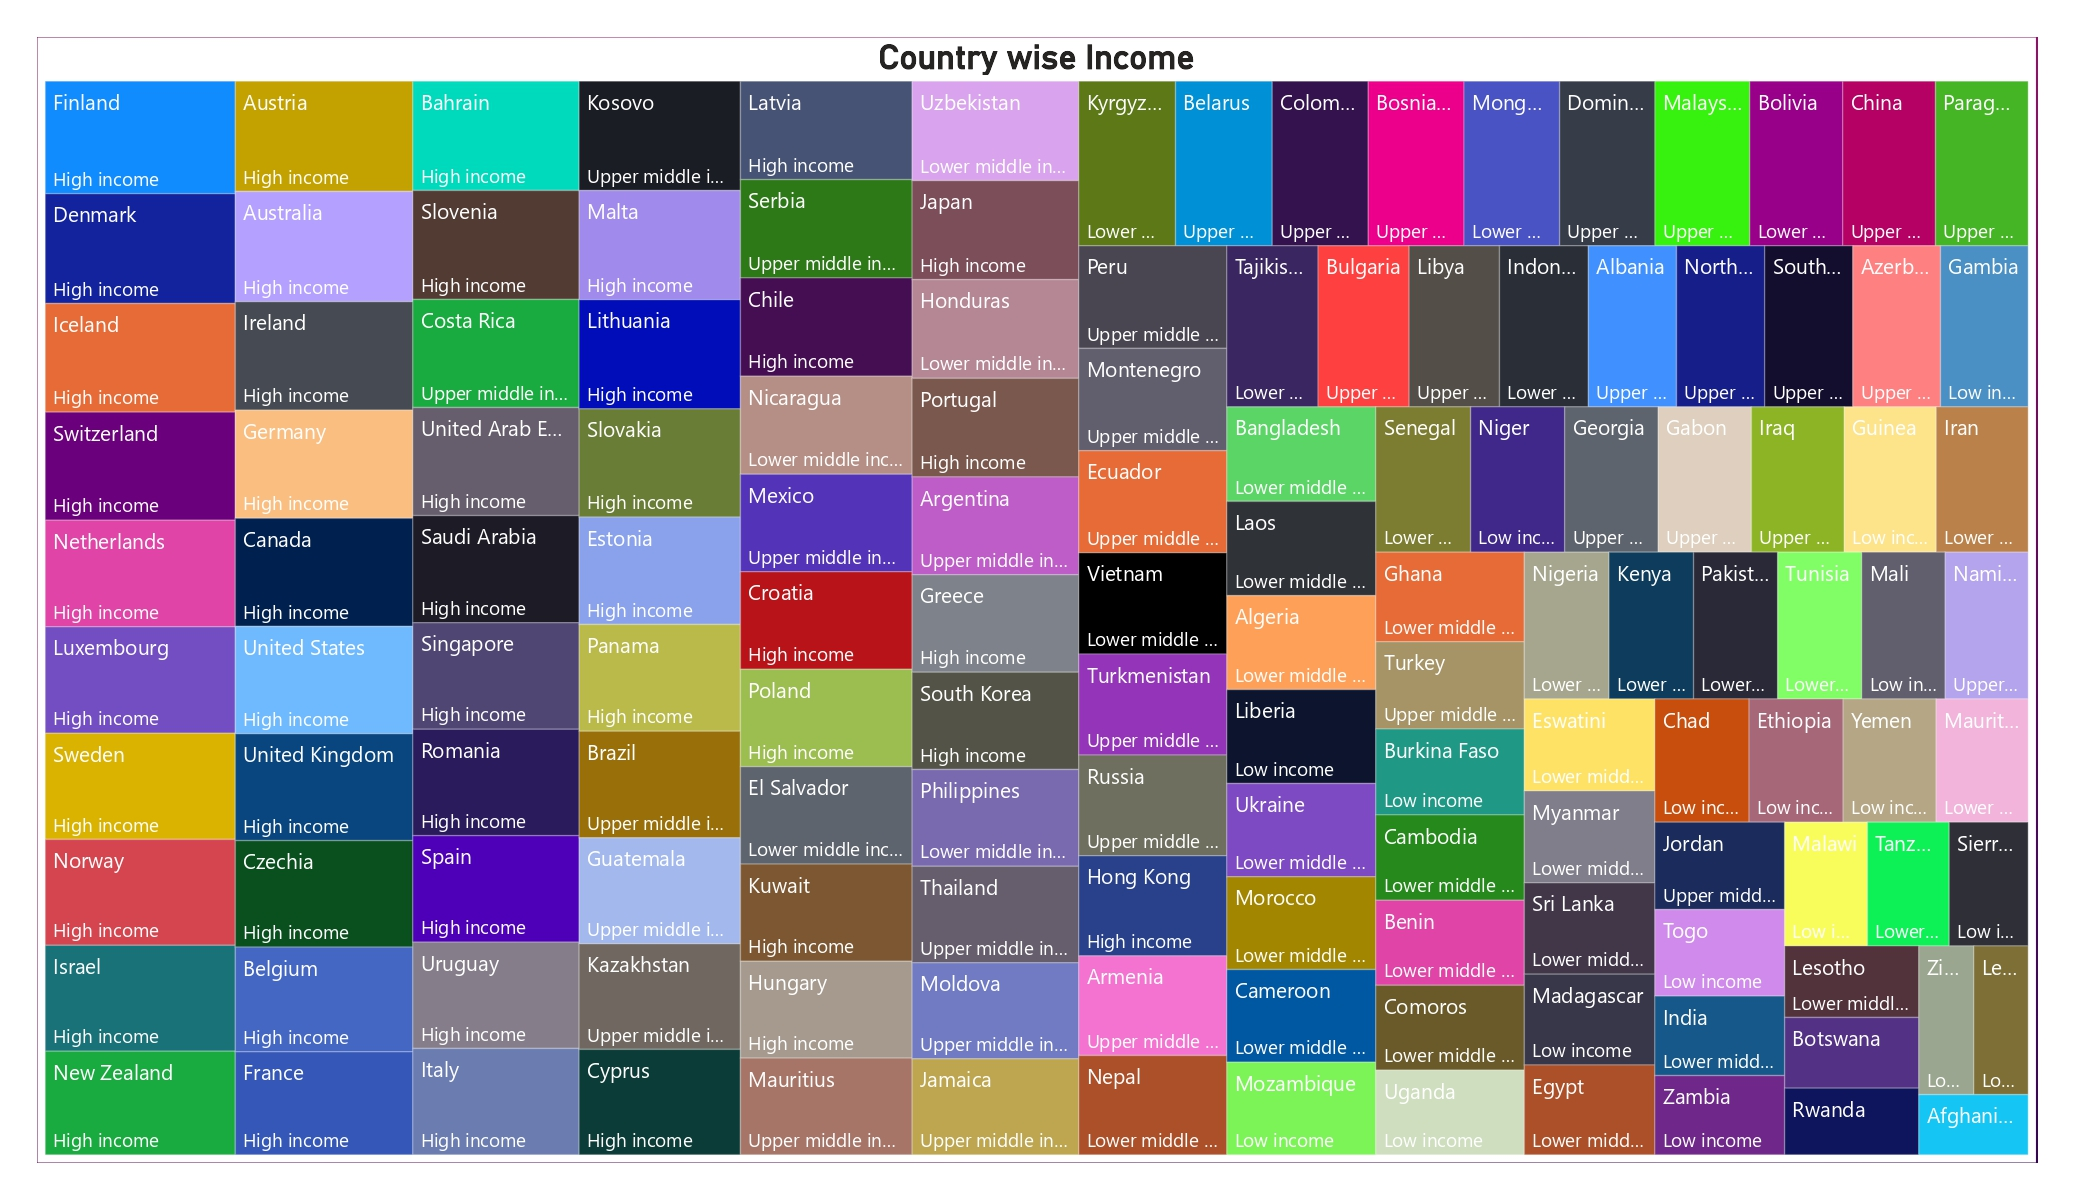

What the dashboard file says about the page in this screenshot:
{"tool":"powerbi","page":{"name":"Country wise Income","canvas":[1280,720],"ordinal":1},"visuals":[{"type":"actionButton","box":[0,0,100,40],"z":0},{"type":"treemap","title":"Country wise Income","fields":{"Group":["hapiness_report_2022.country"],"Values":["Sum(hapiness_report_2022.score)"],"Details":["hapiness_report_2022.income"]},"box":[0,0,1279.5,720],"z":1000}]}

Visuals, with their boxes on the page's 1280x720 design canvas (x1, y1, x2, y2). These are canvas units, not pixel positions in the 2075x1200 screenshot, which may show the page scaled, cropped or inside an application window:
actionButton: 0 0 100 40
"Country wise Income" treemap: 0 0 1280 720
